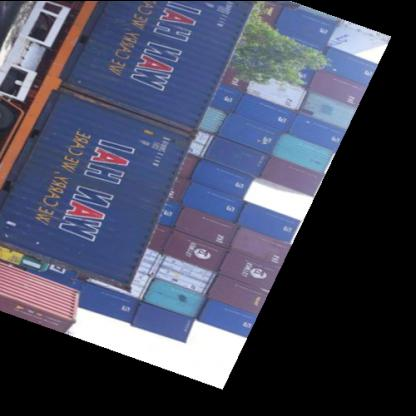Damage: (58, 83, 200, 136), (13, 245, 130, 295)
